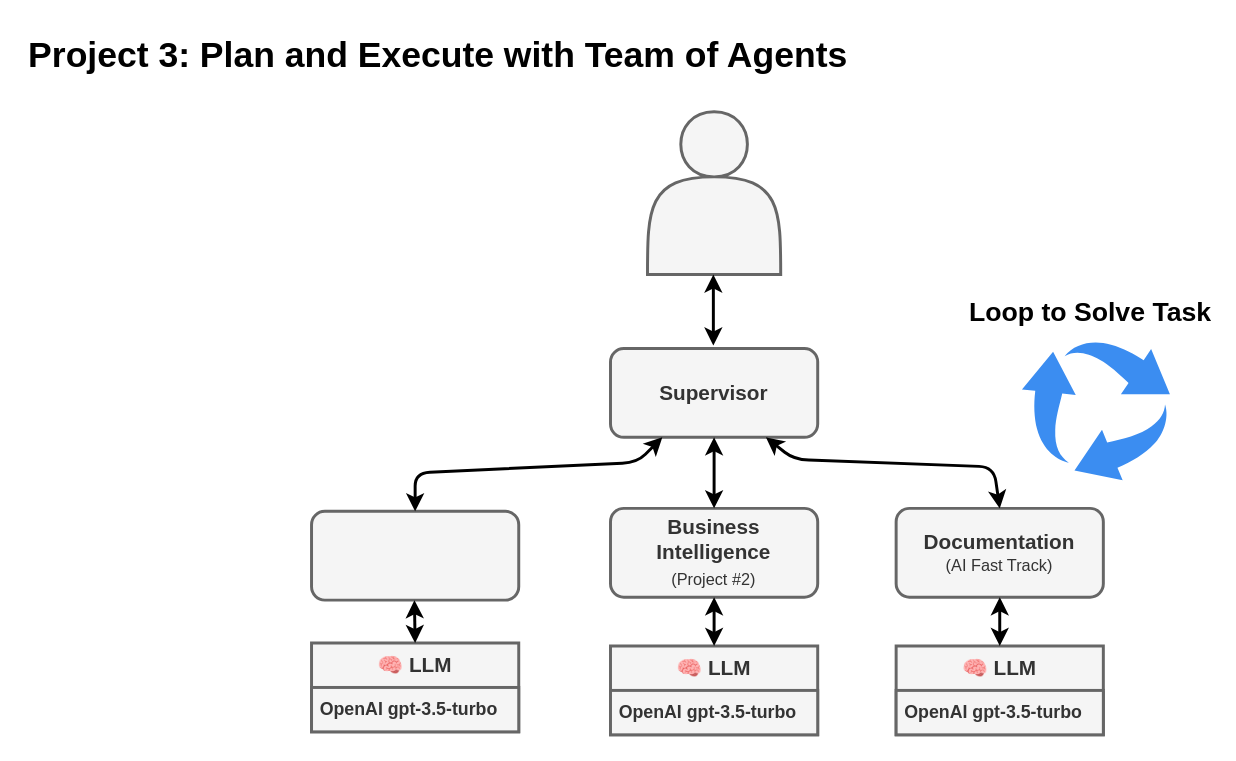
This 1236x761 diagram has some shape labels left out. Here are the shapes that lost their labels. From the top down, the centre of each, then its label:
the point at 713,192: App User
the point at 414,555: Marketing Strategy (Project #1)
